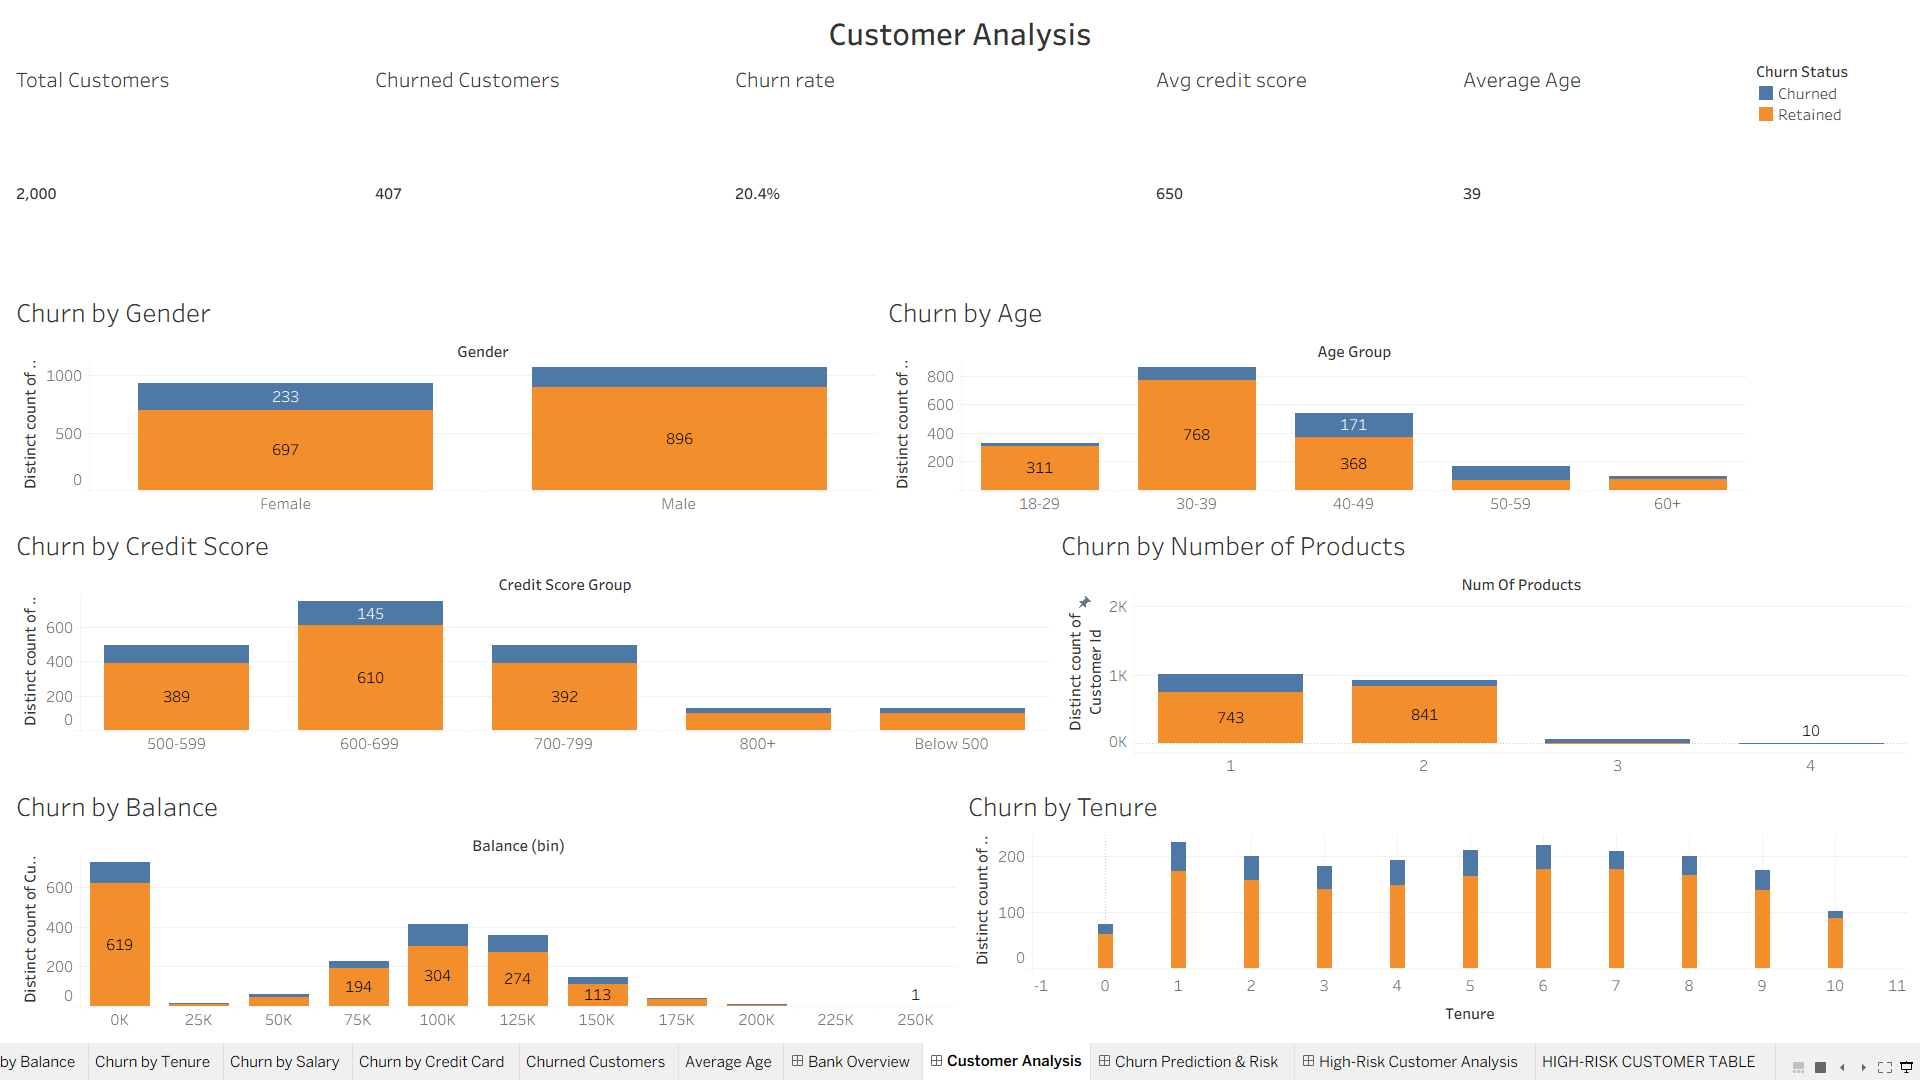

This screenshot's page, from the dashboard's own definition file:
{"tool":"tableau","page":{"name":"Customer Analysis","canvas":[1000,1000],"units":"permille","ordinal":2},"visuals":[{"type":"worksheet","title":"Total Customers","mark":"Automatic","box":[4.7,9.4,184.8,230.9]},{"type":"worksheet","title":"Churned Customers","mark":"Automatic","box":[189.5,9.4,184.8,230.9]},{"type":"worksheet","title":"Churn rate","mark":"Automatic","box":[374.3,9.4,216.9,230.9]},{"type":"worksheet","title":"Avg credit score","mark":"Automatic","box":[591.2,9.4,157.5,230.9]},{"type":"worksheet","title":"Average Age","mark":"Automatic","box":[748.8,9.4,152.8,230.9]},{"type":"legend","title":"Churn by Gender","param":"[federated.0efkrn5075c5j214u6vuk07ufjy2].[none:Calculation_2695230802886657:nk]","box":[901.6,9.4,93.7,84.6]},{"type":"worksheet","title":"Churn by Gender","mark":"Automatic","rows":["CustomerId"],"cols":["Gender"],"box":[4.7,240.3,448.4,233.2]},{"type":"worksheet","title":"Churn by Age","mark":"Bar","rows":["CustomerId"],"cols":["Calculation_2695230806921219"],"box":[453.1,240.3,448.5,233.2]},{"type":"worksheet","title":"Churn by Credit Score","mark":"Bar","rows":["CustomerId"],"cols":["Calculation_2695230808870916"],"box":[4.7,473.5,542.6,262.1]},{"type":"worksheet","title":"Churn by Number of Products","mark":"Bar","rows":["CustomerId"],"cols":["NumOfProducts"],"box":[547.3,473.5,447.9,262.1]},{"type":"worksheet","title":"Churn by Balance","mark":"Automatic","rows":["CustomerId"],"cols":["Balance (bin)"],"box":[4.7,735.6,495.3,255]},{"type":"worksheet","title":"Churn by Tenure","mark":"Bar","rows":["CustomerId"],"cols":["Tenure"],"box":[500,735.6,495.3,255]}]}

Visuals, with their boxes on the dashboard's canvas, which has no fixed pixel size, in thousandths of its width and height (x1, y1, x2, y2). These are canvas units, not pixel positions in the 1920x1080 screenshot, which may show the page scaled, cropped or inside an application window:
"Total Customers" worksheet: <region>5, 9, 190, 240</region>
"Churned Customers" worksheet: <region>190, 9, 374, 240</region>
"Churn rate" worksheet: <region>374, 9, 591, 240</region>
"Avg credit score" worksheet: <region>591, 9, 749, 240</region>
"Average Age" worksheet: <region>749, 9, 902, 240</region>
"Churn by Gender" legend: <region>902, 9, 995, 94</region>
"Churn by Gender" worksheet: <region>5, 240, 453, 474</region>
"Churn by Age" worksheet (Bar marks): <region>453, 240, 902, 474</region>
"Churn by Credit Score" worksheet (Bar marks): <region>5, 474, 547, 736</region>
"Churn by Number of Products" worksheet (Bar marks): <region>547, 474, 995, 736</region>
"Churn by Balance" worksheet: <region>5, 736, 500, 991</region>
"Churn by Tenure" worksheet (Bar marks): <region>500, 736, 995, 991</region>
